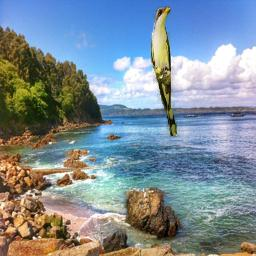Cuckoo: (151, 6, 177, 136)
